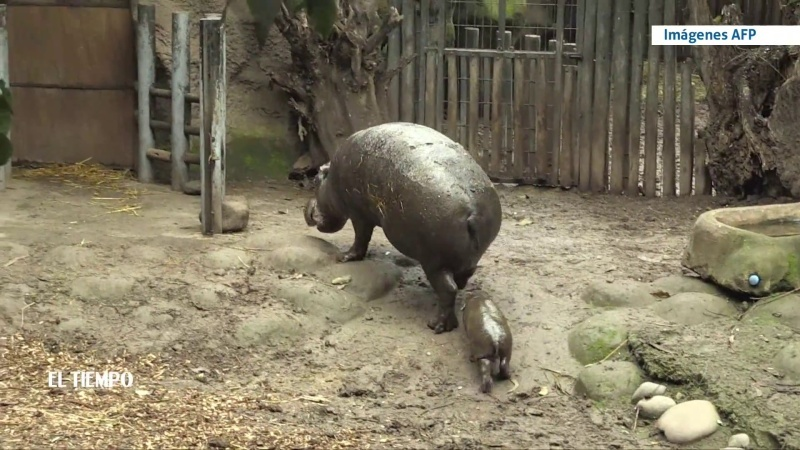hipopotamo: (293, 119, 513, 330), (453, 275, 533, 402)
